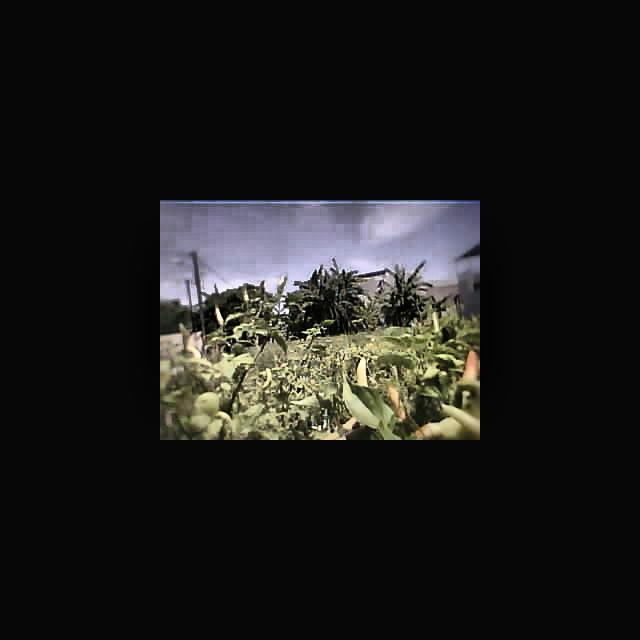Cabai: (460, 347, 480, 379)
